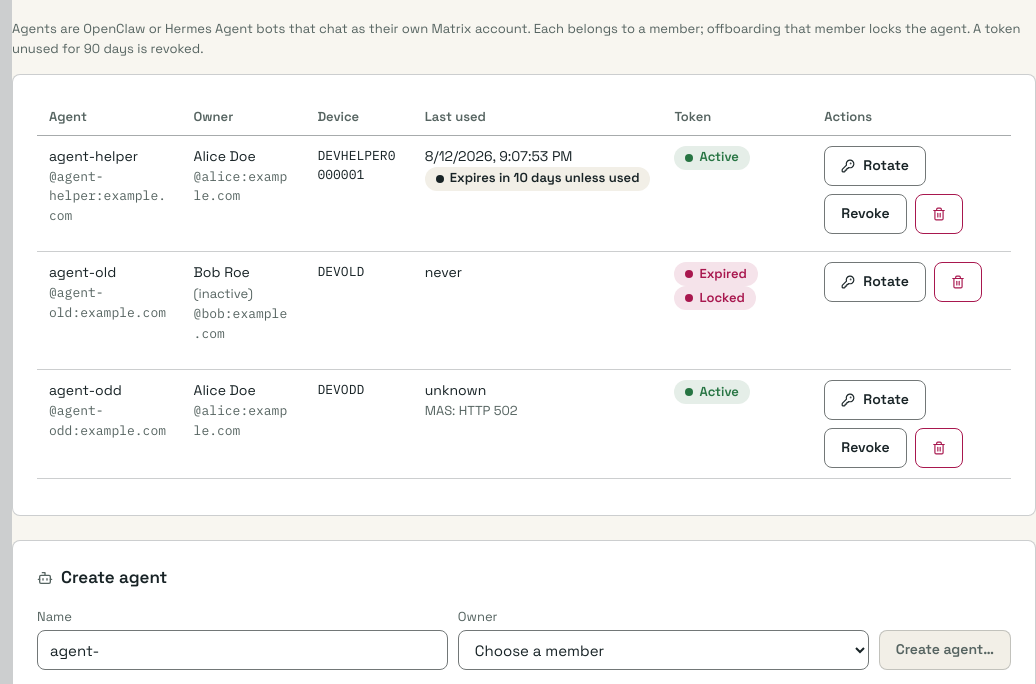
Test: Agents › shows a create refusal
Step 1. Replace the text in the field labelled "Name" with "agent-notes" → (242, 650), box [37, 630, 448, 670]
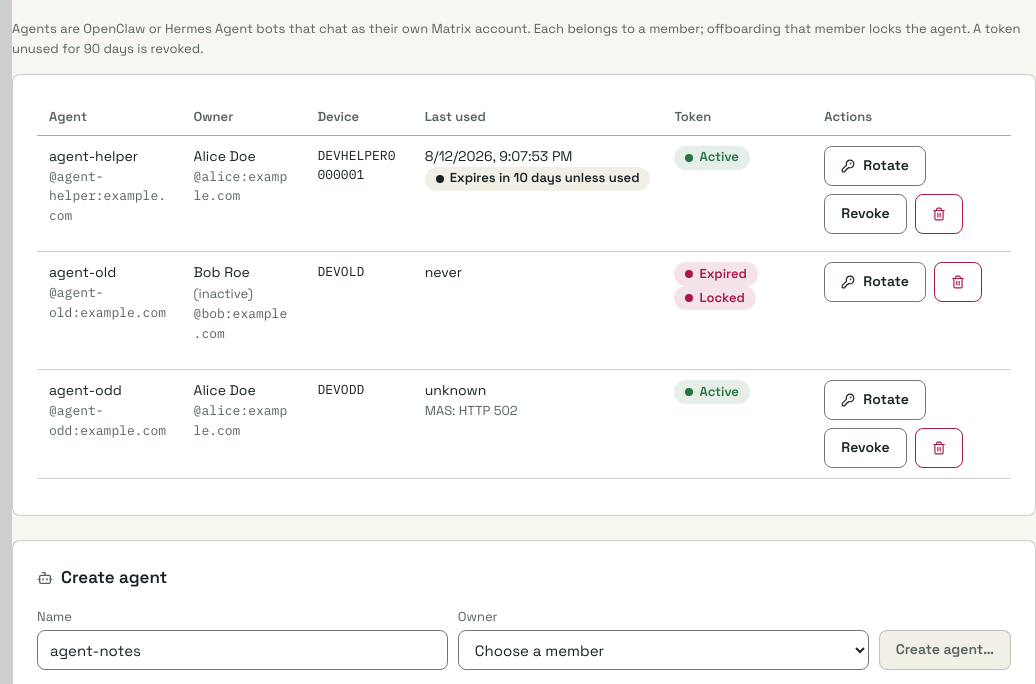
Step 2. Select "Alice Doe (@alice:example.com)" in the dropdown labelled "Owner" → (663, 650), box [458, 630, 869, 670]
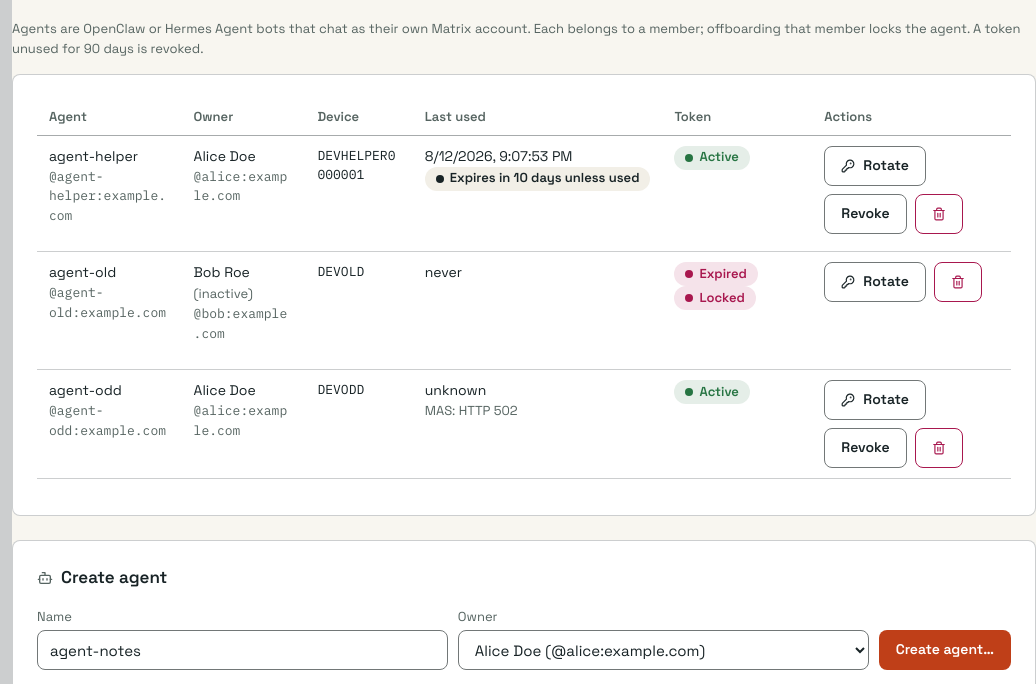
Step 3. Click the button "Create agent…" → click(945, 650), box [879, 630, 1011, 670]
(page scrolled)
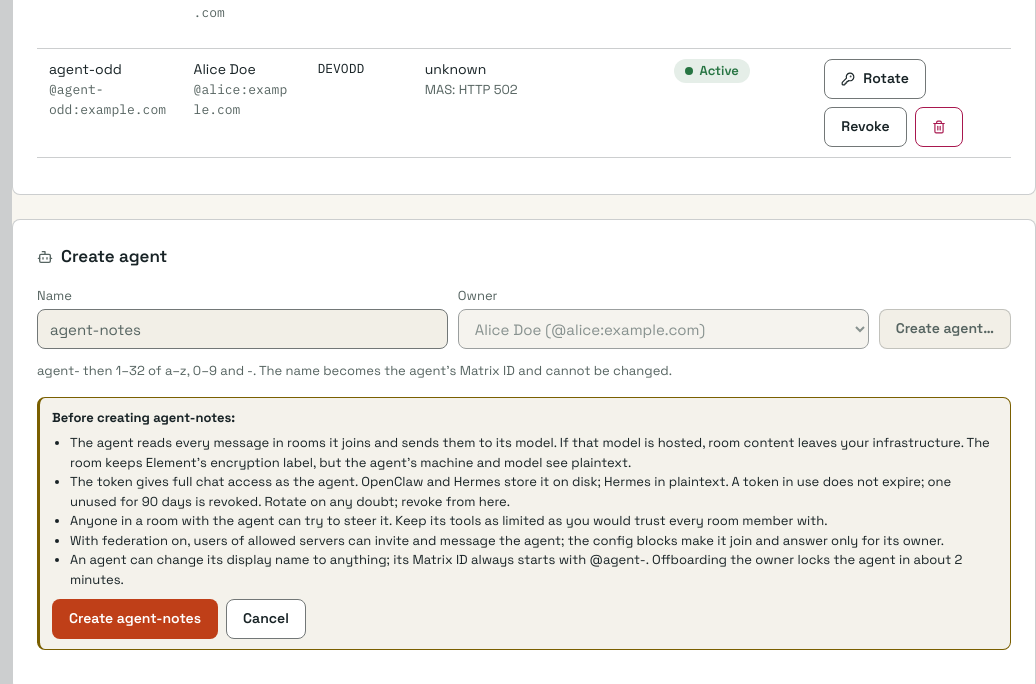
Step 4. Click the button "Create agent-notes" → click(135, 619), box [52, 599, 218, 639]
(page scrolled)
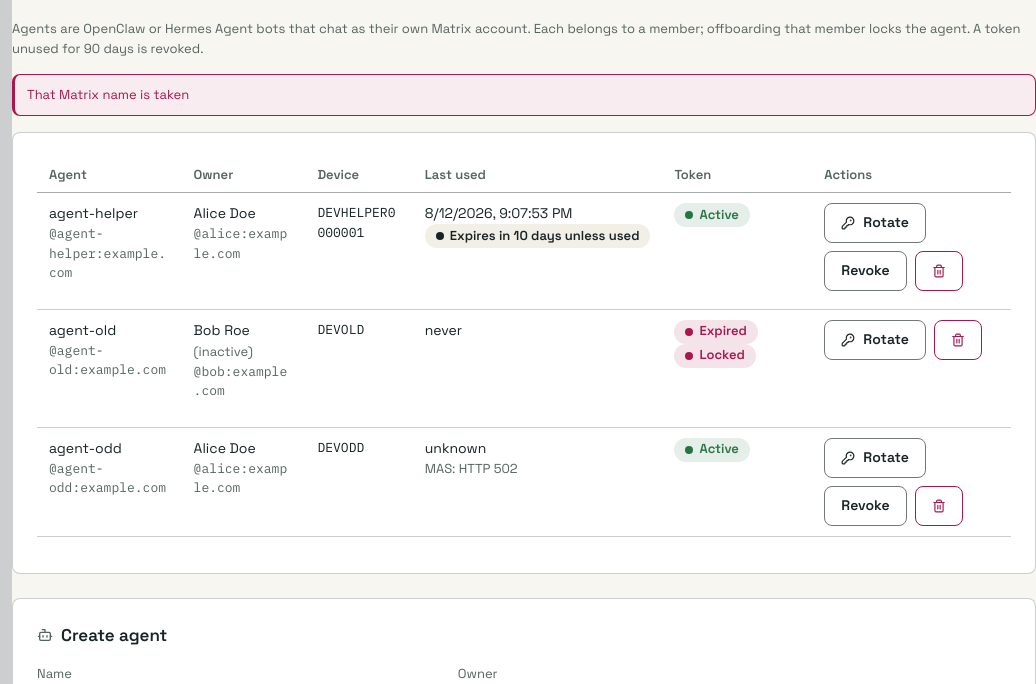
Now the text "That Matrix name is taken" is shown, box [27, 85, 189, 104]
